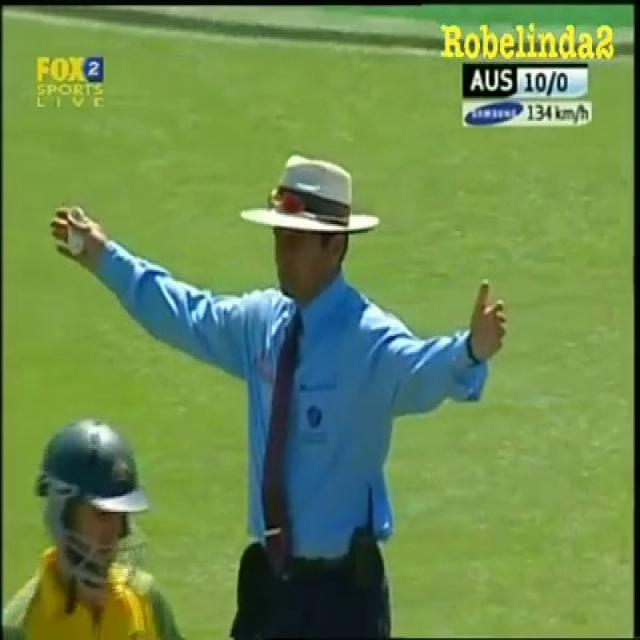Wide: (45, 144, 512, 640)
